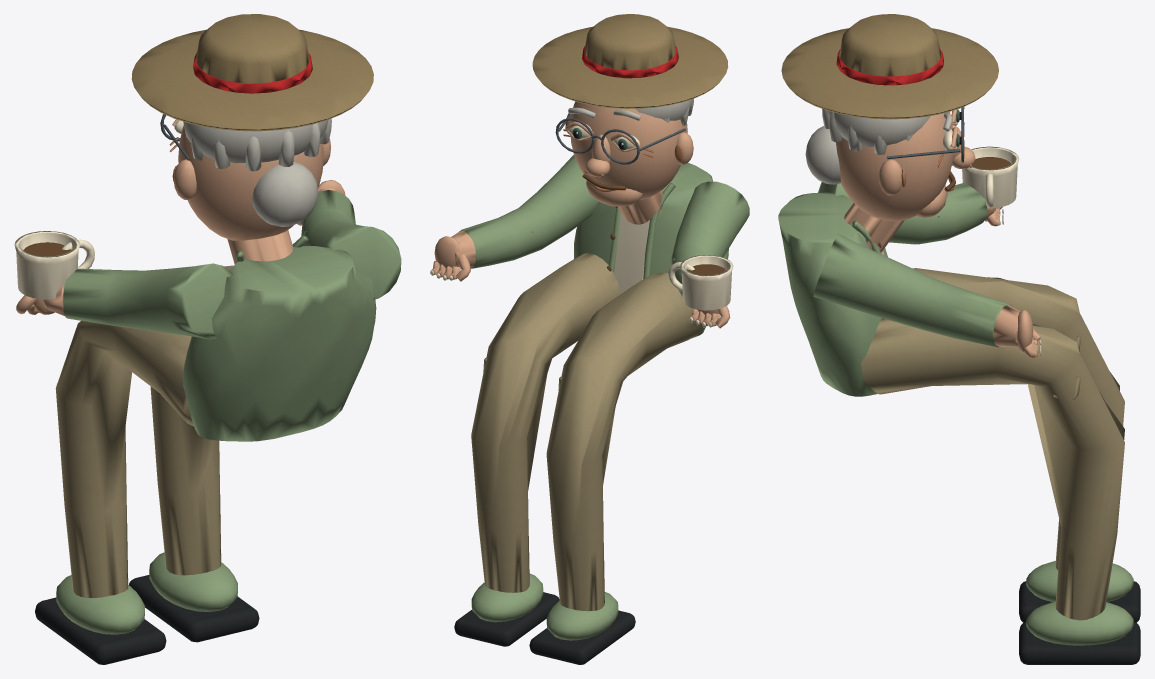
File: NPC_June_Sitting.gltf
3 views of the same model, side by side, from view 1: azimuth 30°, elevation 25°; view 2: azimuth 150°, elevation 25°; view 3: azimuth 270°, elevation 25° (orthographic). The views are drawn at different scales.
Parts seen in each view (by area): view 1: NPC_June_Sitting__Body, NPC_June_Sitting__Head; view 2: NPC_June_Sitting__Body, NPC_June_Sitting__Head; view 3: NPC_June_Sitting__Body, NPC_June_Sitting__Head.
Boxes of the visible parts, left/top/right/bottom form: NPC_June_Sitting__Body: left=14, top=180, right=401, bottom=664; NPC_June_Sitting__Head: left=131, top=14, right=373, bottom=240; NPC_June_Sitting__Body: left=430, top=155, right=749, bottom=664; NPC_June_Sitting__Head: left=532, top=14, right=728, bottom=206; NPC_June_Sitting__Body: left=778, top=146, right=1140, bottom=664; NPC_June_Sitting__Head: left=781, top=14, right=998, bottom=221.
Bounding box in the file's own units: 0.6461 × 1.2 × 0.6531.
Materials: 1 (1 with a texture image).
